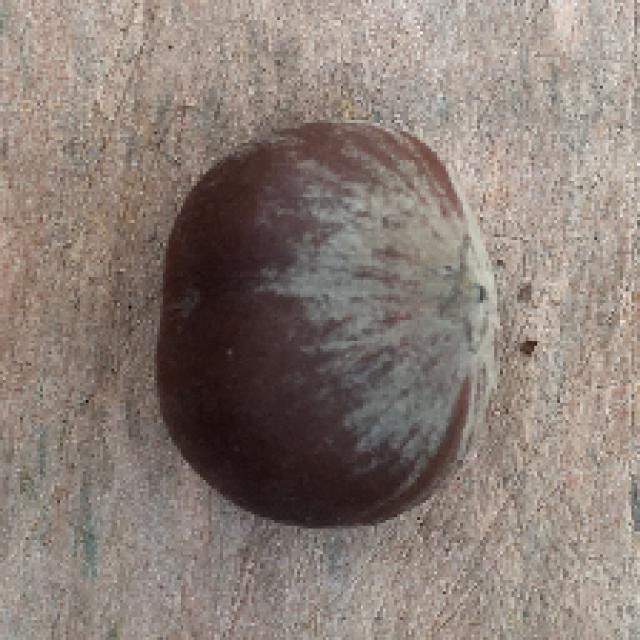damagedHazelnut: (141, 108, 508, 529)
